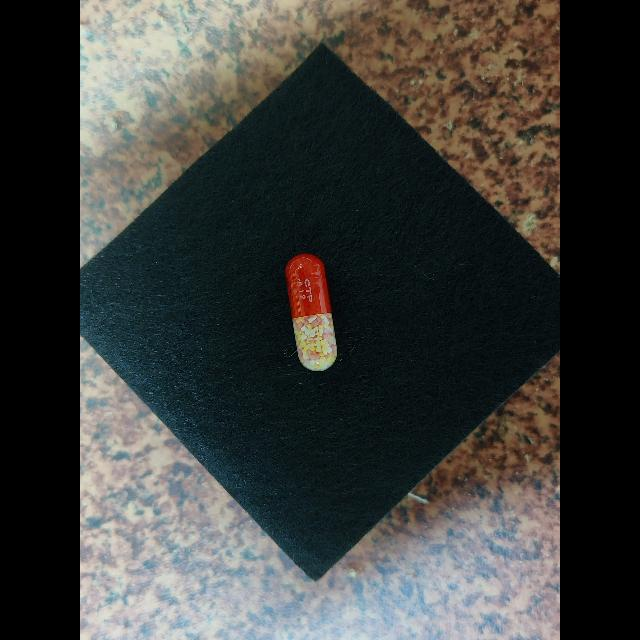Intact Capsule: (285, 254, 337, 371)
